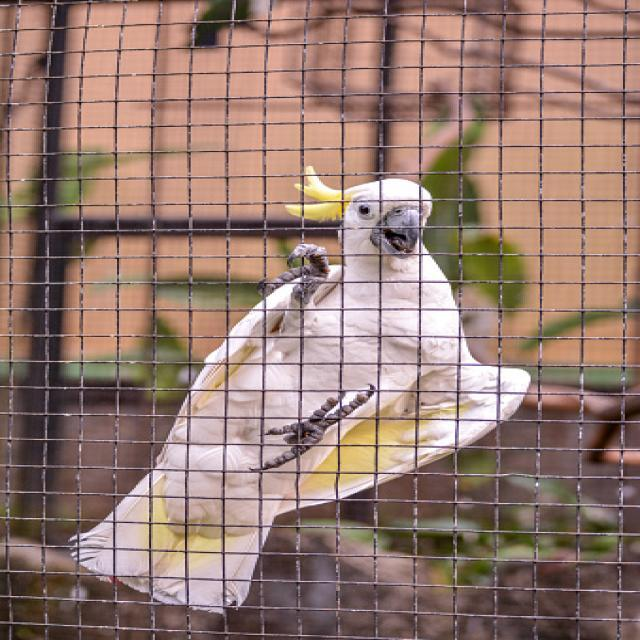Kakatua Putih: (52, 141, 570, 629)
